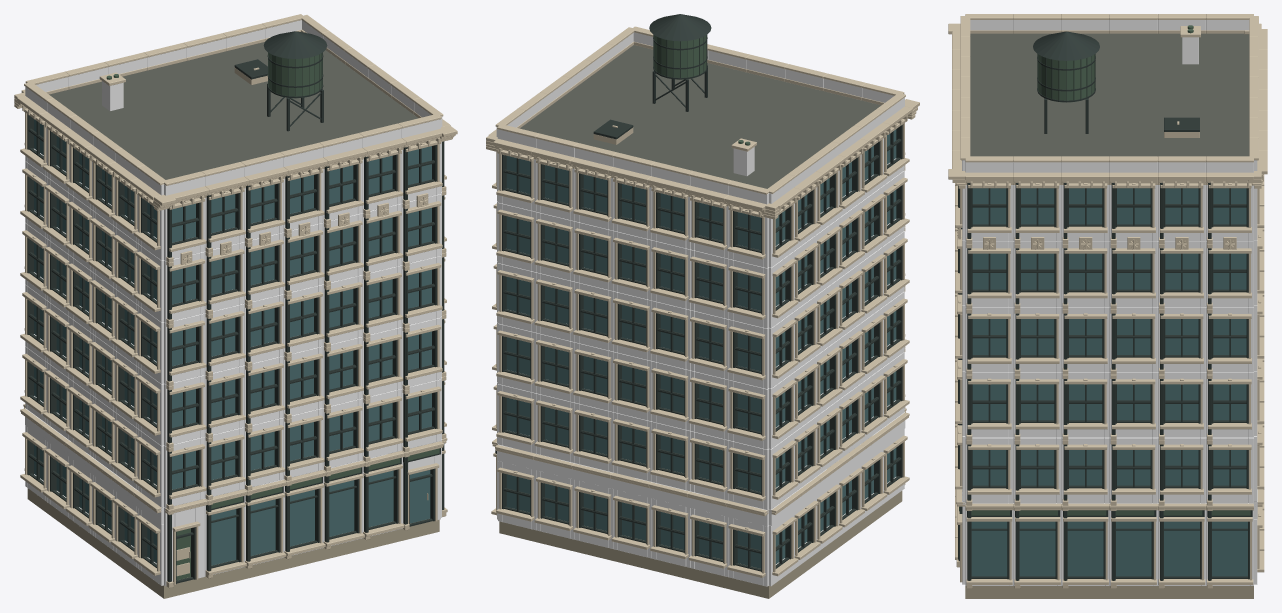
Rendered from ornate-corner.glb.
3 renders of one model, left to right at view 1: azimuth 30°, elevation 25°; view 2: azimuth 150°, elevation 25°; view 3: azimuth 270°, elevation 25°, orthographic. The views are drawn at different scales.
Visible parts, largest first — view 1: Connected roof.017, Foundation.017, nyc/tank/frame.002, nyc/tank/door.002, nyc-main/north/0/2143/glass.002, nyc-main/north/0/6429/glass.002, nyc-main/north/0/3571/glass.002, nyc-main/north/0/7857/glass.002, nyc-main/north/0/5000/glass.002, nyc-main/north/0/714/wall.002, nyc-main/north/0/9286/glass.002, nyc-main/north/0/714/trim.002 (+112 smaller); view 2: Connected roof.017, Foundation.017, nyc/tank/frame.002, nyc/tank/door.002, nyc-main/south/4/714/wall.002, nyc-main/south/1/714/wall.002, nyc-main/south/3/714/wall.002, nyc-main/south/2/714/wall.002, nyc-main/south/0/714/wall.002, nyc-main/south/1/6429/wall.002, nyc-main/south/1/9286/wall.002, nyc-main/south/3/9286/wall.002 (+142 smaller); view 3: Connected roof.017, Foundation.017, nyc/tank/frame.002, nyc/tank/door.002, nyc-main/east/0/5833/glass.002, nyc-main/east/0/7500/glass.002, nyc-main/east/0/9167/glass.002, nyc-main/east/0/833/glass.002, nyc-main/east/0/2500/glass.002, nyc-main/east/0/4167/glass.002, nyc-main/east/2/9167/glass.002, nyc-main/east/4/9167/glass.002 (+153 smaller).
Part boxes in pixels (<box>): Connected roof.017: <box>49,42,418,179</box>; Foundation.017: <box>27,449,439,598</box>; nyc/tank/frame.002: <box>263,31,327,131</box>; nyc/tank/door.002: <box>268,52,322,98</box>; nyc-main/north/0/2143/glass.002: <box>211,509,236,565</box>; nyc-main/north/0/6429/glass.002: <box>329,480,354,536</box>; nyc-main/north/0/3571/glass.002: <box>250,499,275,555</box>; nyc-main/north/0/7857/glass.002: <box>368,470,393,527</box>; nyc-main/north/0/5000/glass.002: <box>290,490,314,546</box>; nyc-main/north/0/714/wall.002: <box>164,505,204,586</box>; nyc-main/north/0/9286/glass.002: <box>410,470,430,523</box>; nyc-main/north/0/714/trim.002: <box>172,521,200,585</box>; Connected roof.017: <box>520,45,880,188</box>; Foundation.017: <box>499,459,902,598</box>; nyc/tank/frame.002: <box>649,14,711,111</box>; nyc/tank/door.002: <box>653,35,706,79</box>; nyc-main/south/4/714/wall.002: <box>729,259,768,328</box>; nyc-main/south/1/714/wall.002: <box>729,440,768,509</box>; nyc-main/south/3/714/wall.002: <box>729,319,768,388</box>; nyc-main/south/2/714/wall.002: <box>729,380,768,449</box>; nyc-main/south/0/714/wall.002: <box>729,517,768,586</box>; nyc-main/south/1/6429/wall.002: <box>575,403,613,472</box>; nyc-main/south/1/9286/wall.002: <box>498,384,536,453</box>; nyc-main/south/3/9286/wall.002: <box>498,263,536,332</box>; Connected roof.017: <box>970,33,1249,156</box>; Foundation.017: <box>965,586,1253,598</box>; nyc/tank/frame.002: <box>1033,31,1099,133</box>; nyc/tank/door.002: <box>1037,54,1095,102</box>; nyc-main/east/0/5833/glass.002: <box>1067,521,1103,576</box>; nyc-main/east/0/7500/glass.002: <box>1019,521,1055,576</box>; nyc-main/east/0/9167/glass.002: <box>971,521,1007,576</box>; nyc-main/east/0/833/glass.002: <box>1212,521,1247,576</box>; nyc-main/east/0/2500/glass.002: <box>1164,521,1199,576</box>; nyc-main/east/0/4167/glass.002: <box>1116,521,1151,576</box>; nyc-main/east/2/9167/glass.002: <box>972,384,1006,420</box>; nyc-main/east/4/9167/glass.002: <box>972,253,1006,289</box>.
Bounding box in the file's own units: 15.12 × 23.75 × 13.27.
